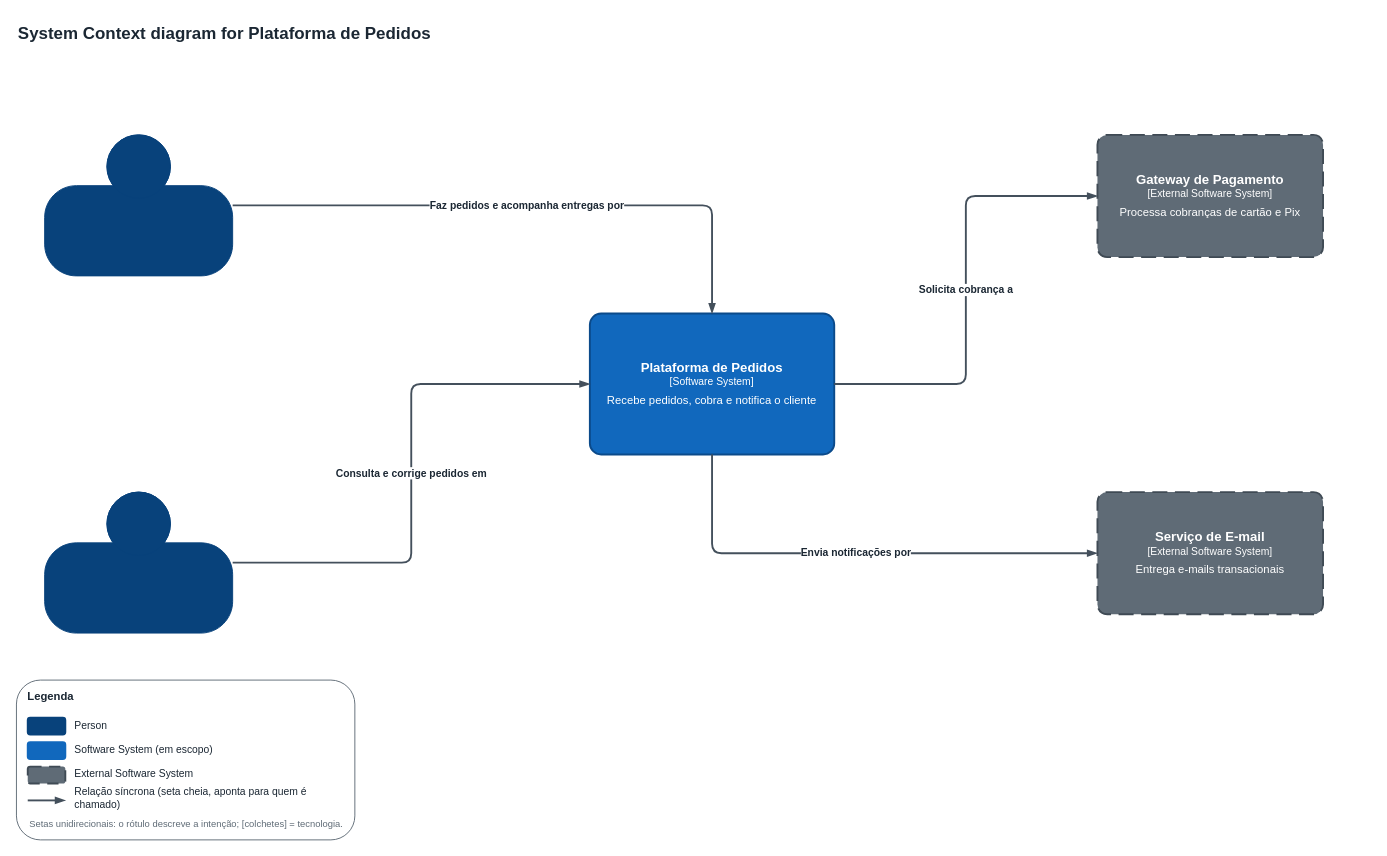
This 1387x856 diagram has some shape labels left out. Here are the shapes that lost their labels. From the top down, the box of each, then its label:
(44, 134, 233, 276): Cliente [Person] Compra produtos e acompanha entregas
(44, 491, 233, 633): Atendente [Person] Consulta e corrige pedidos de clientes
